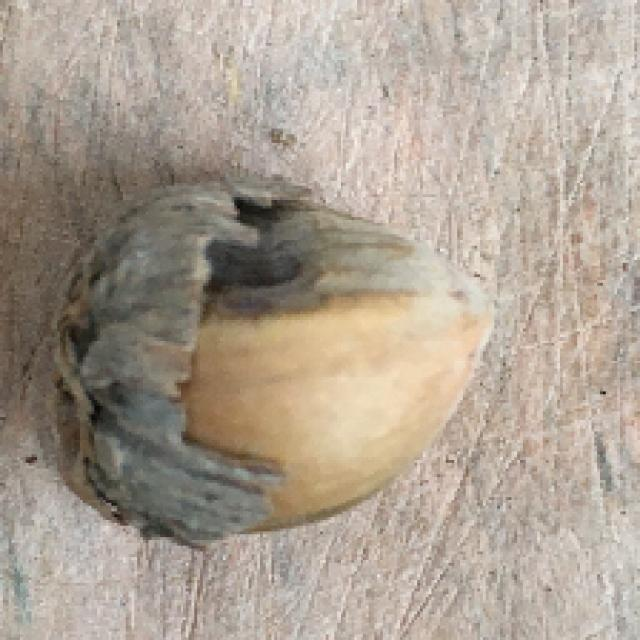damagedHazelnut: (36, 173, 505, 565)
